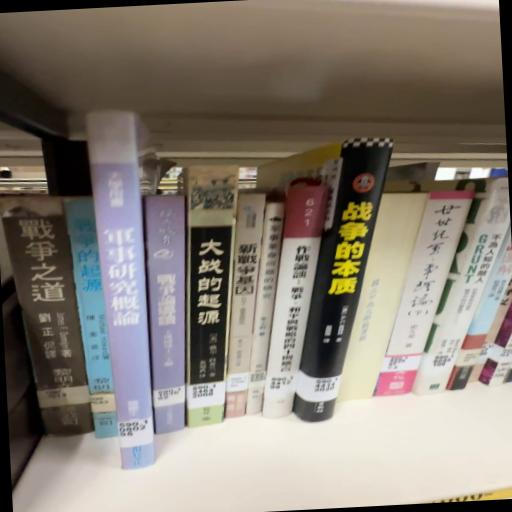backward: (338, 194, 429, 403)
book: (303, 149, 410, 421), (357, 195, 477, 404), (93, 115, 159, 478), (1, 196, 92, 445), (255, 178, 346, 421), (174, 170, 251, 426), (215, 179, 281, 421), (139, 191, 196, 434)
